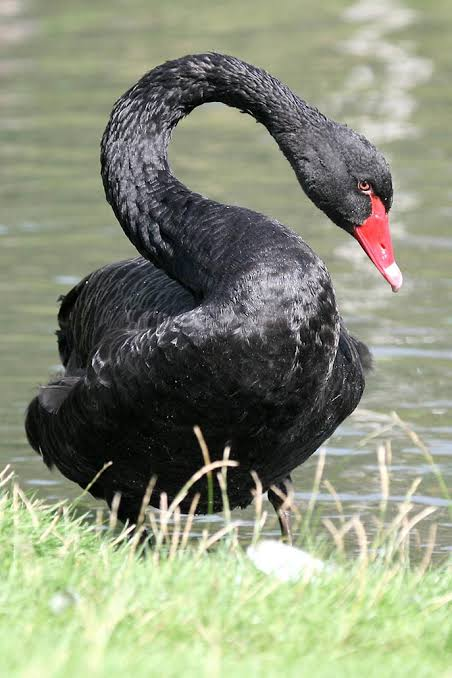black_swan: (23, 52, 403, 564)
